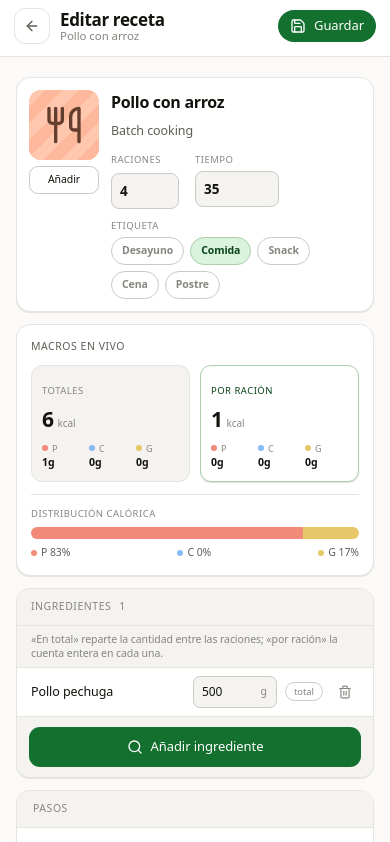
Test case: RecetaEditorPage — editing an existing recipe › never sends servings below the half-serving floor — it stops at the form
This screenshot has width=390, height=842.
Replace the text in the field labelled "Raciones" with "0,2" at x=145, y=191, box [111, 173, 179, 209]
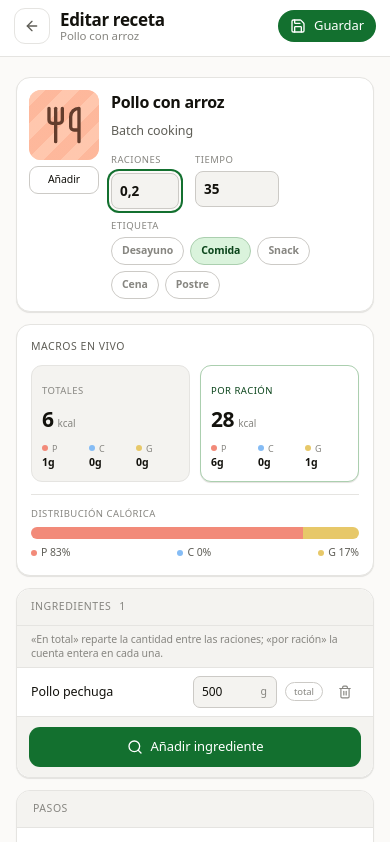
Click the button "Guardar" at x=327, y=26, box [278, 10, 376, 42]
(page scrolled)
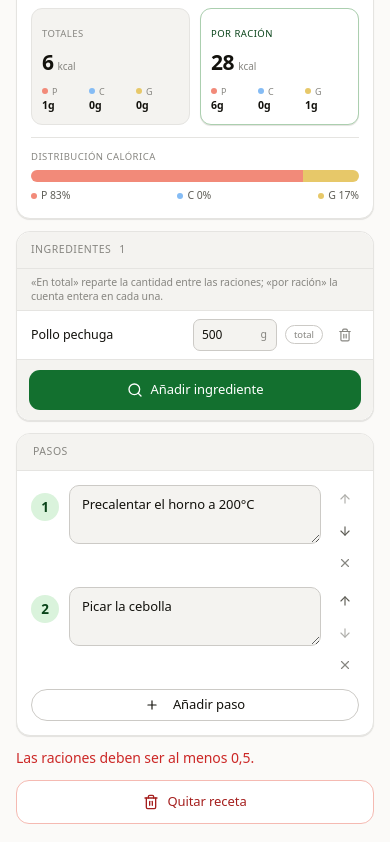
Check: the message reads "Las raciones deben ser al menos 0,5.", box [16, 748, 254, 767]
